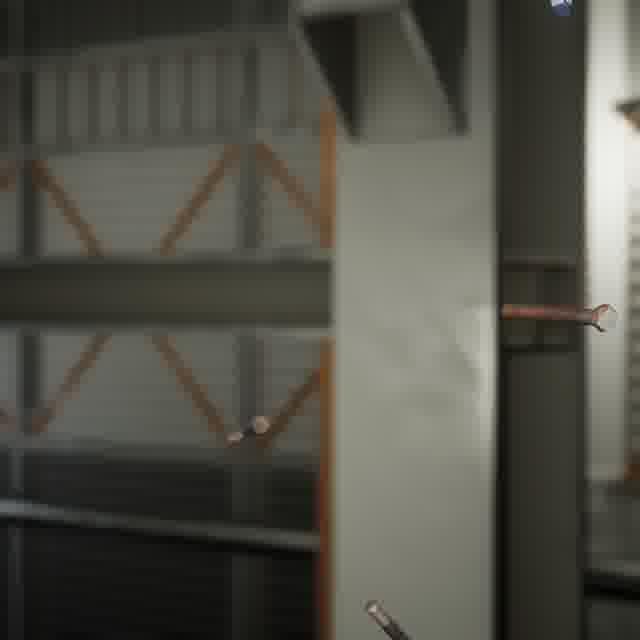bolt: (497, 298, 621, 336), (360, 595, 415, 640), (220, 410, 275, 446)
nut: (545, 0, 578, 22)
